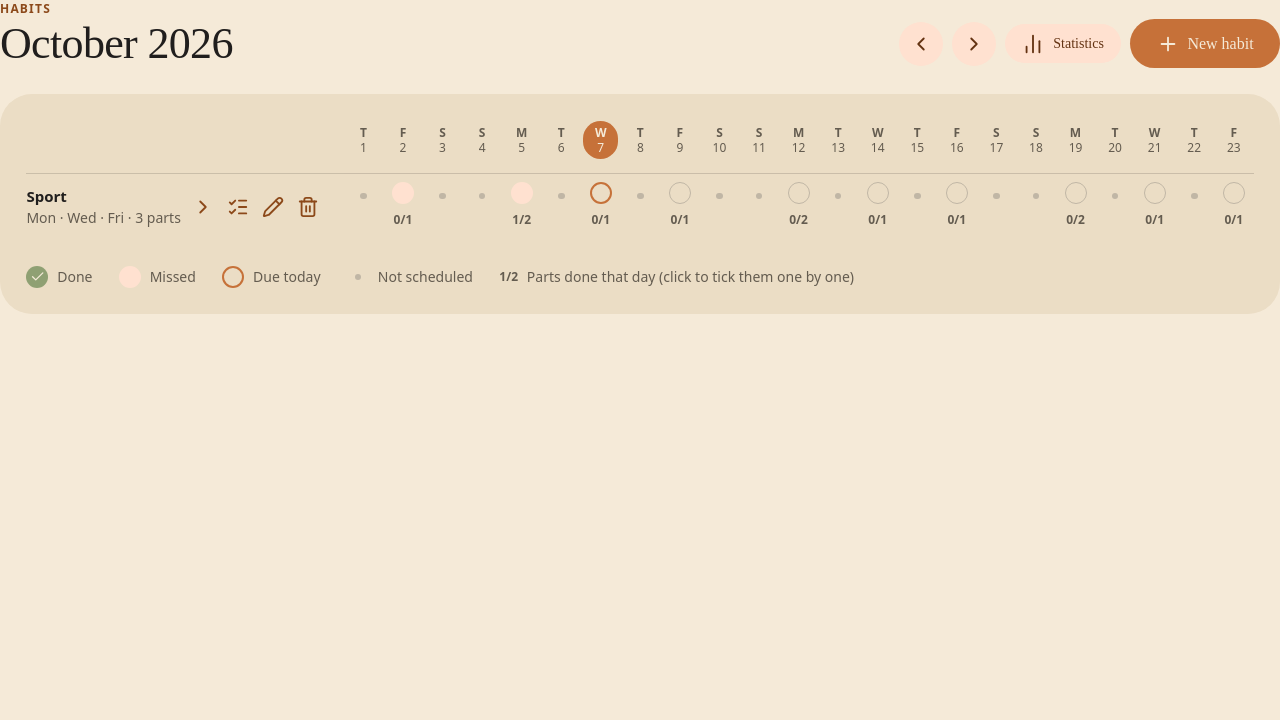
Test: ticking the parts of a day › puts a refused tick back even when the screen cannot ask the server what is true
The width and height of the screenshot is (1280, 720).
Expected: the table is shown, [26,121,1254,240]
Click the button "1/2": (522,220) [504,209,539,231]
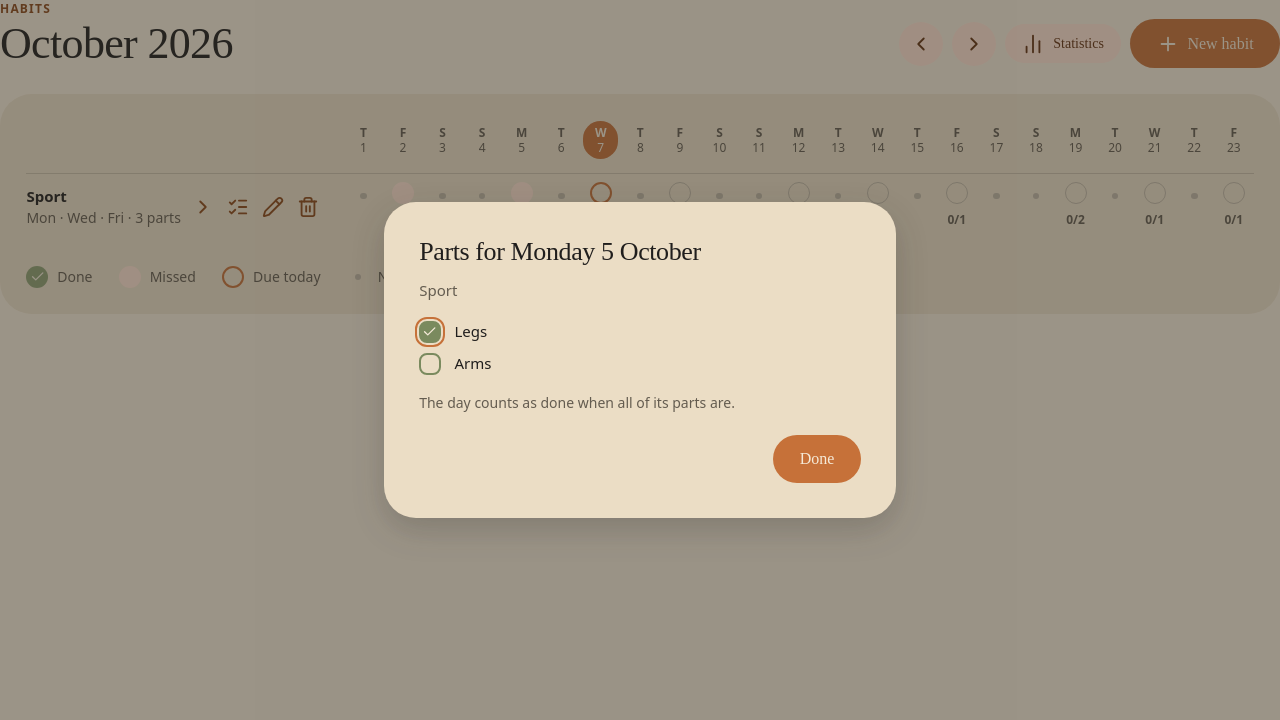
Click the checkbox named "Sport: Arms": (430,364) [419,353,441,375]
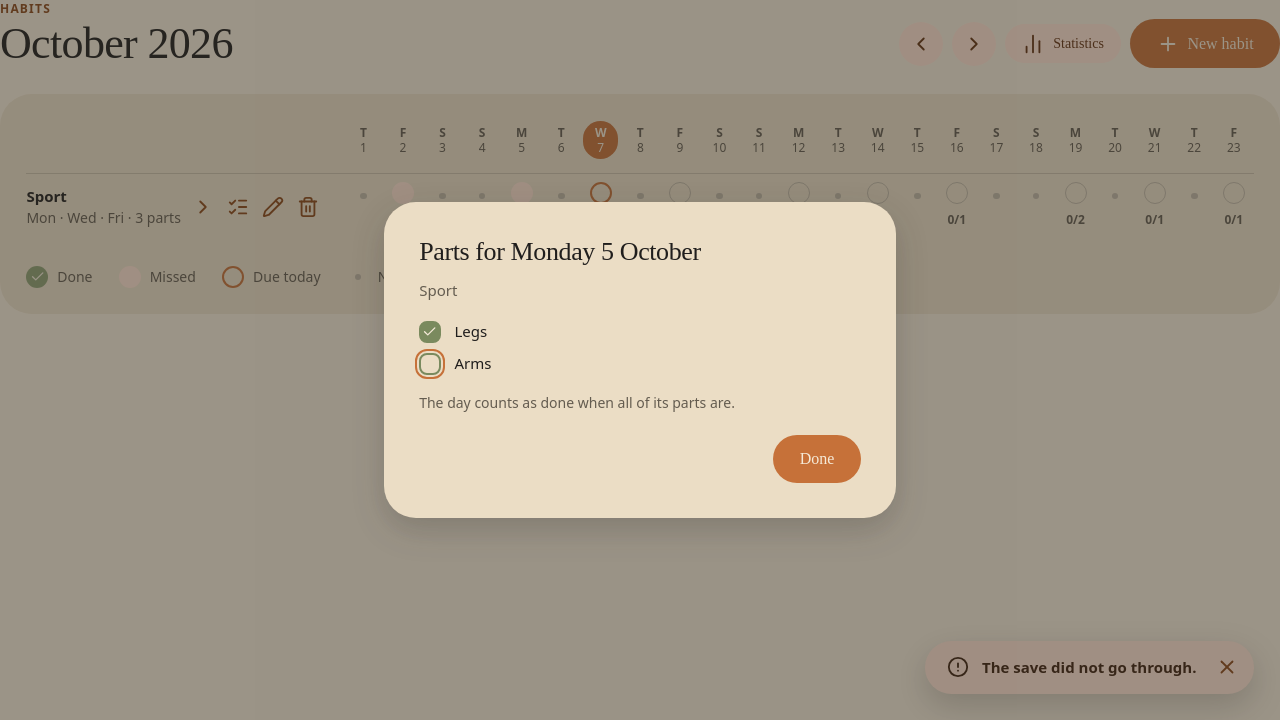
Result: the checkbox named "Sport: Arms" is not checked at [419,353,441,375]
Result: the message reads "The save did not go through." at [982,657,1196,677]
